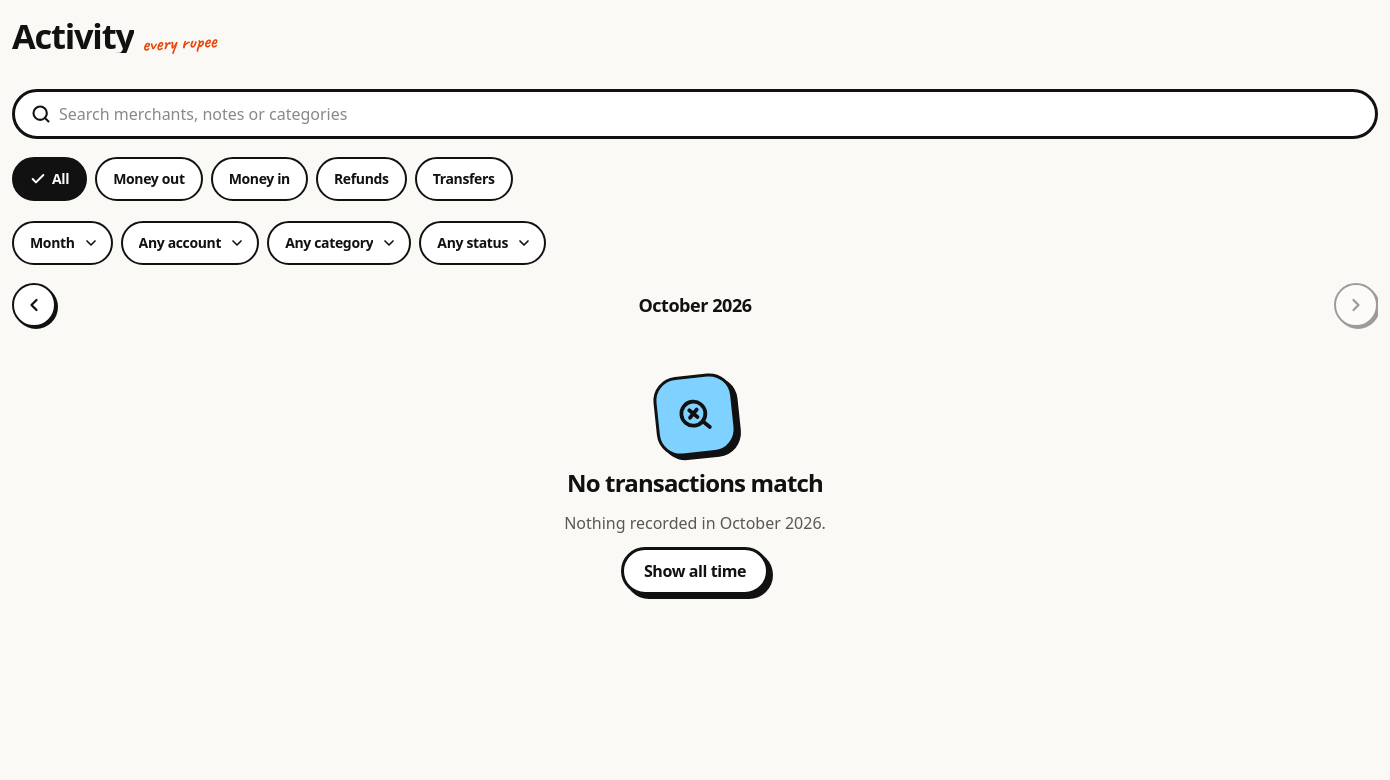
Test: Activity — filters › filters by status and writes it to the URL
Select "Needs attention (pending + review)" in the dropdown labelled "status": (483, 243) [419,221,546,265]
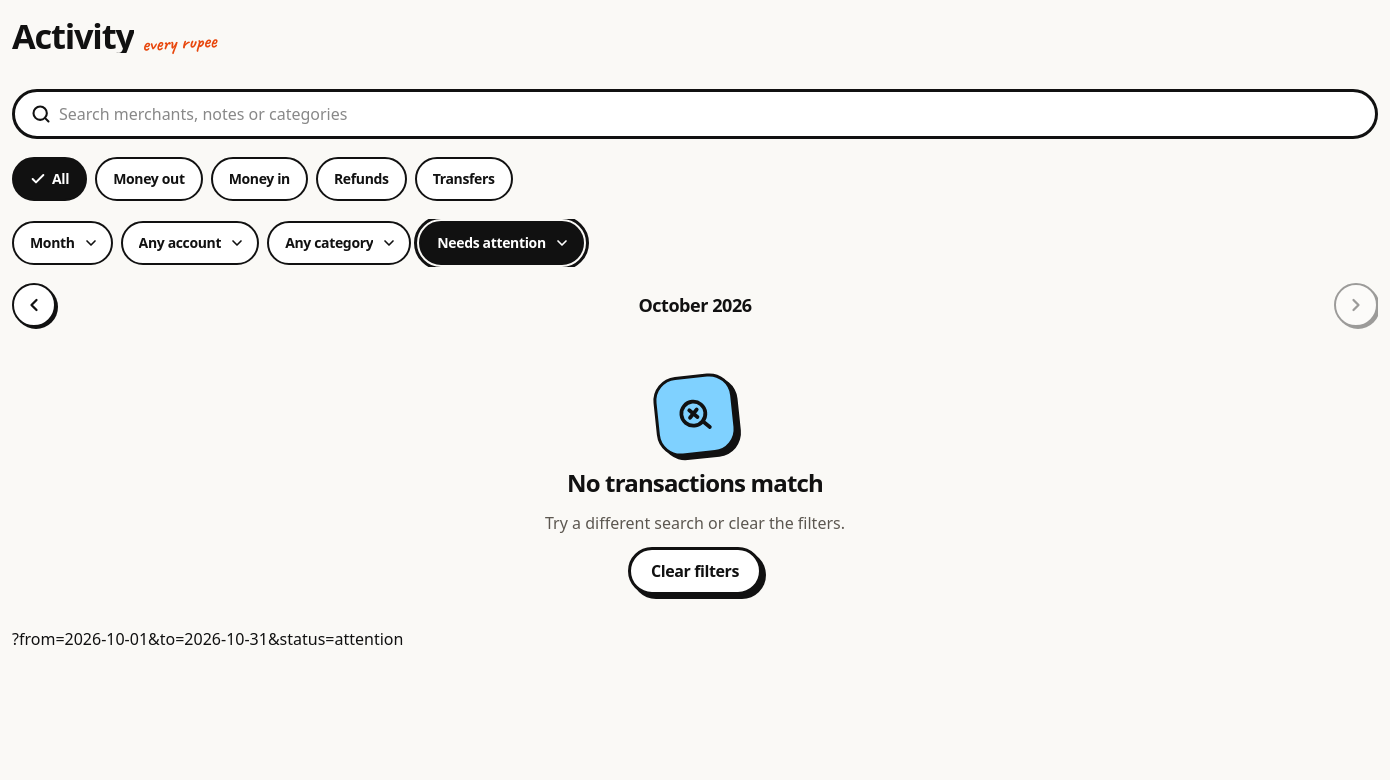
Result: the text with test id "location" shows "status=attention" at [12,628,403,650]
